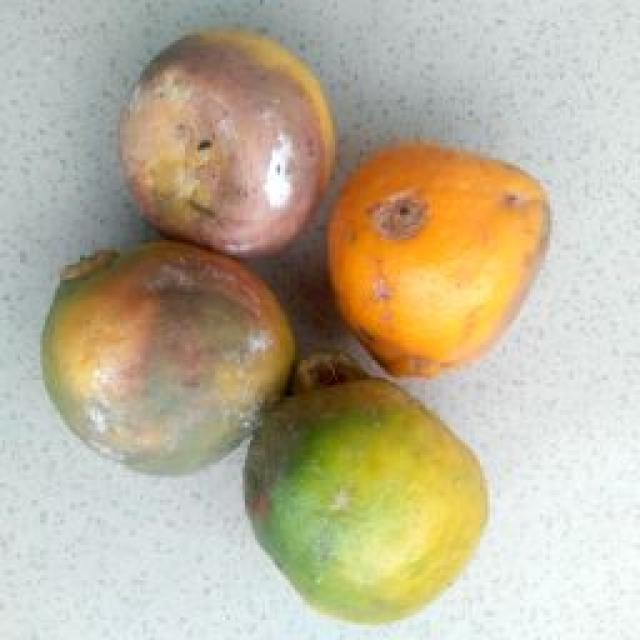Bad_Orange: (42, 241, 295, 473), (329, 144, 549, 374), (121, 30, 334, 257)
